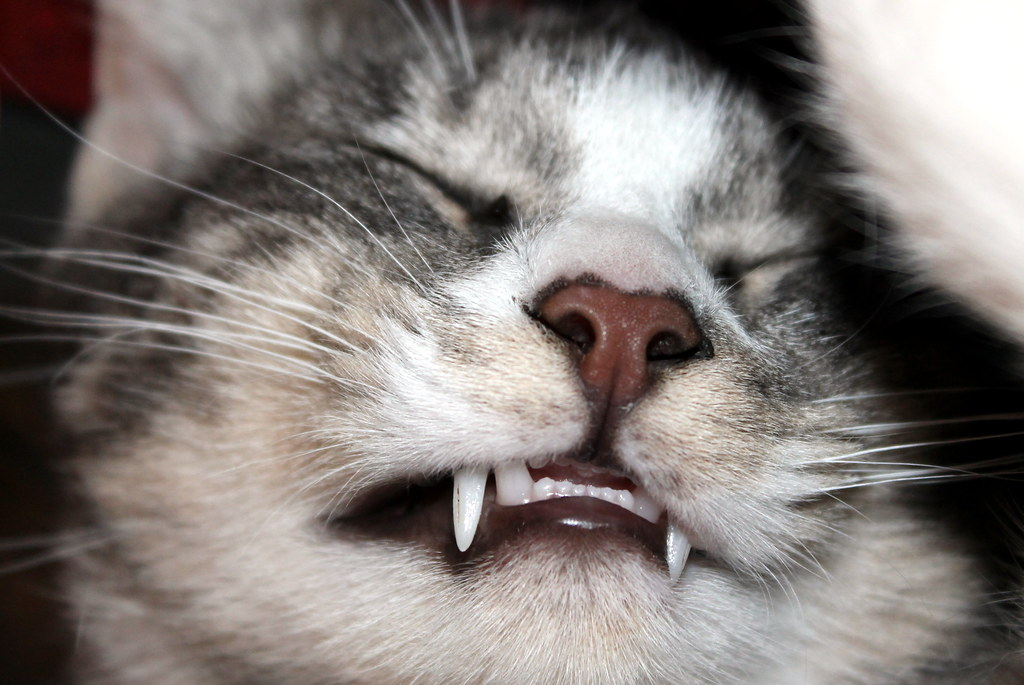cat-face: (37, 1, 986, 659)
